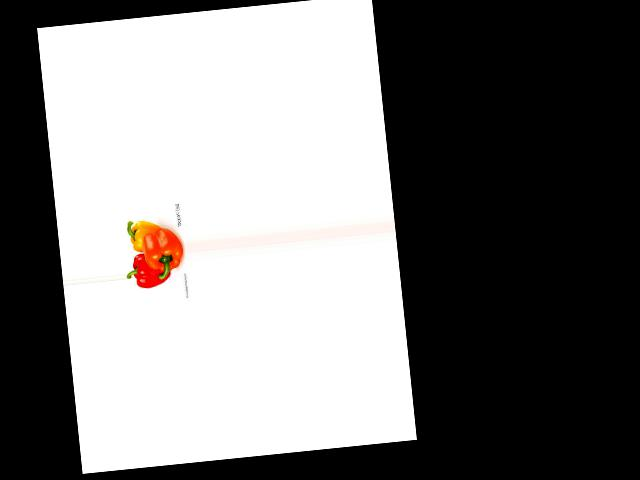bell_pepper: (124, 216, 164, 255)
